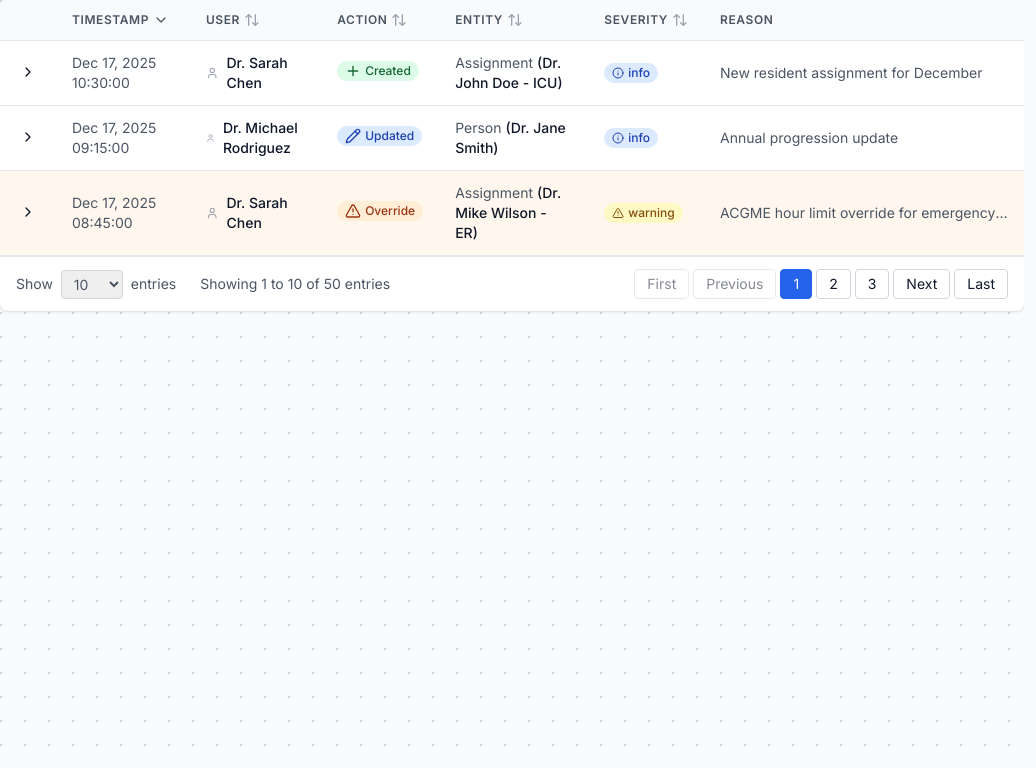
AuditLogTable › Expandable Rows › should expand row when clicking expand button
This screenshot has width=1036, height=768.
Note: Find the expand button (chevron right icon)
Click the button named "Expand details" next to "Dec 17, 2025 10:30:00".
click(28, 72)  # box [16,60,40,84]
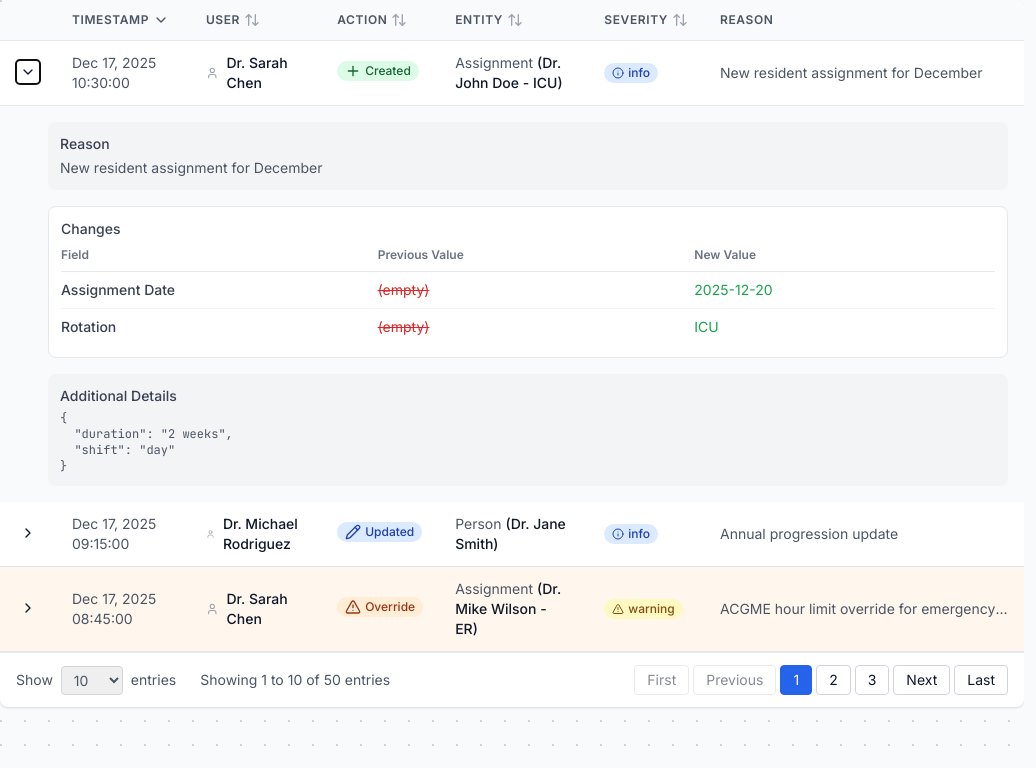
expect the text "Changes" is shown: met, box [61,220,120,237]
